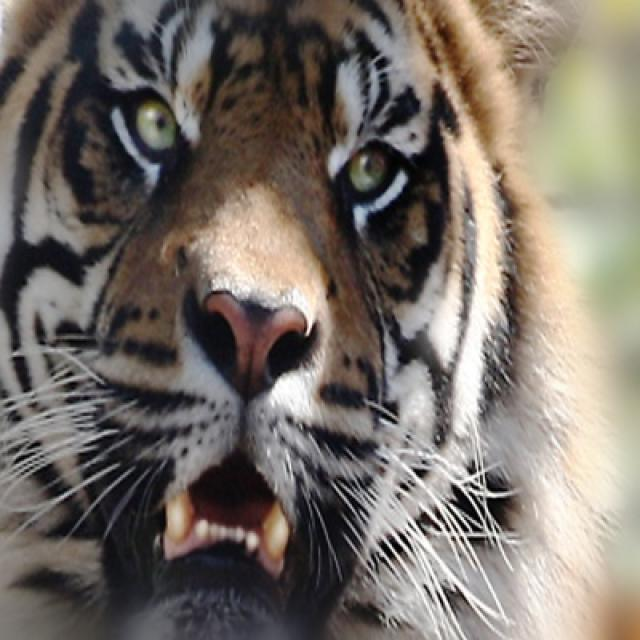Tiger: (0, 0, 625, 638)
